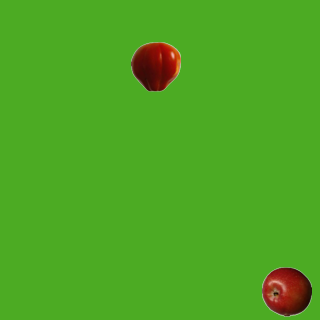Apple Braeburn: (261, 266, 311, 316)
Tomato 1: (130, 41, 180, 91)
